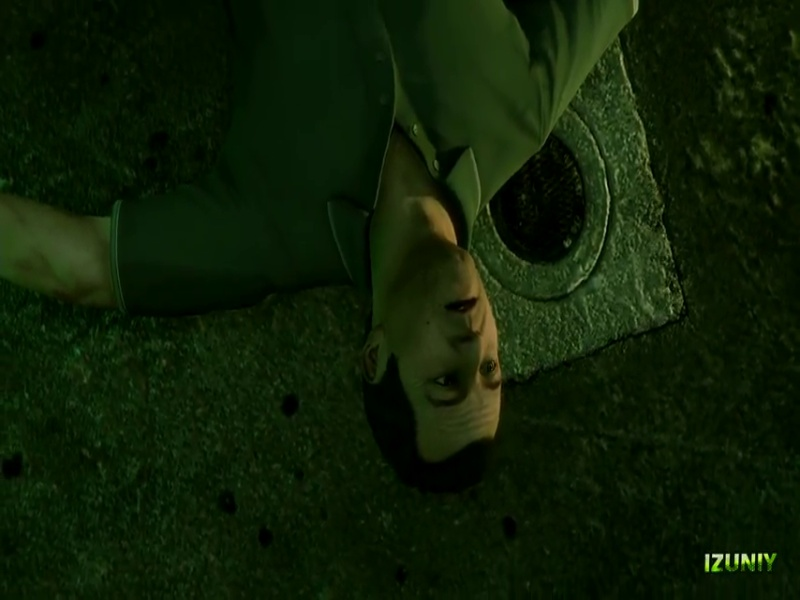human: (12, 0, 694, 501)
